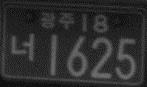1: (49, 32, 58, 78), (80, 12, 89, 33)
2: (90, 36, 114, 80)
5: (114, 36, 137, 81)
6: (65, 33, 89, 78)
8: (93, 14, 108, 34)
광주_O: (40, 10, 75, 30)
너: (9, 32, 36, 62)
